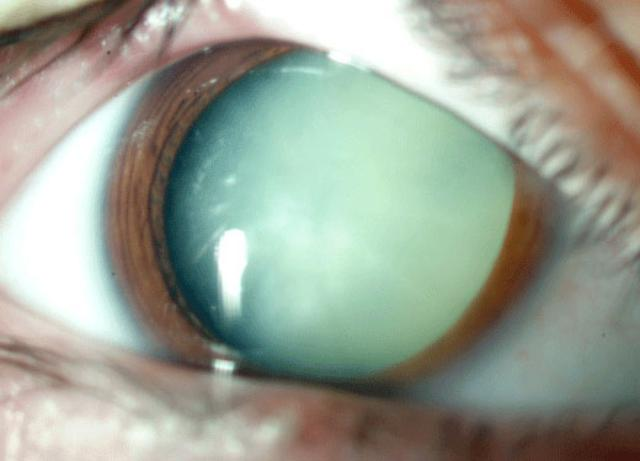eye: (105, 22, 553, 393)
